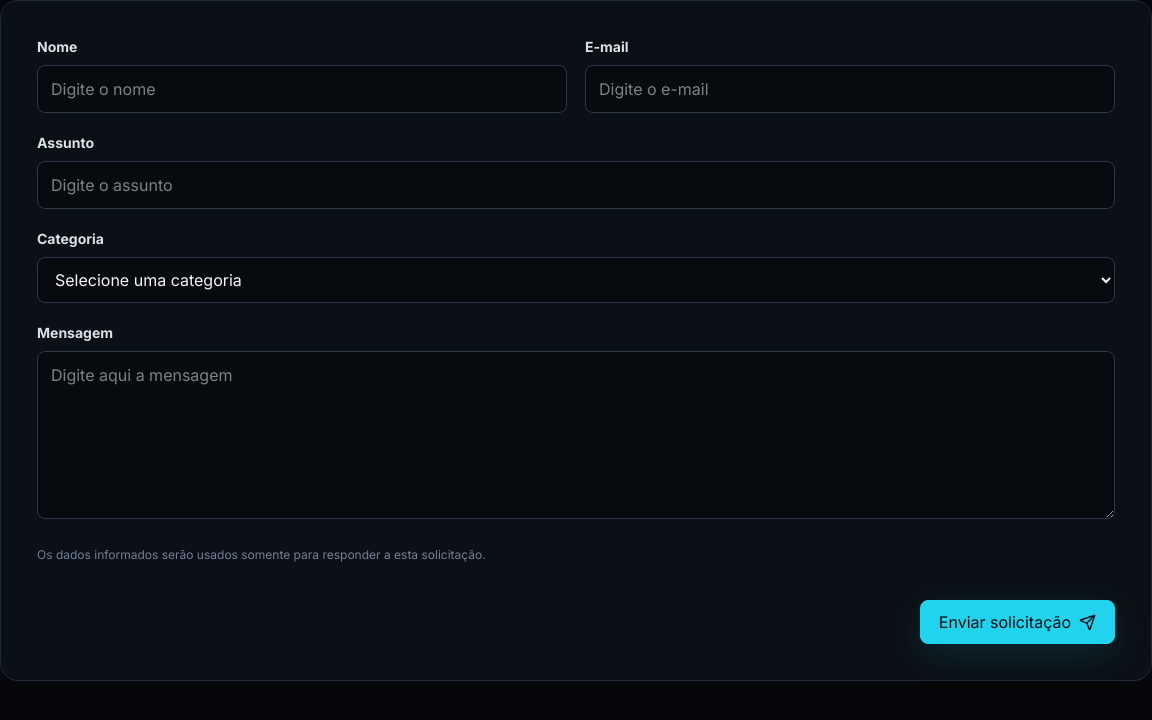
SupportForm › anuncia o feedback de sucesso
The image size is (1152, 720).
Type "Marcos Silva" into the field labelled "Nome" at (302, 89), box [37,65,567,113]
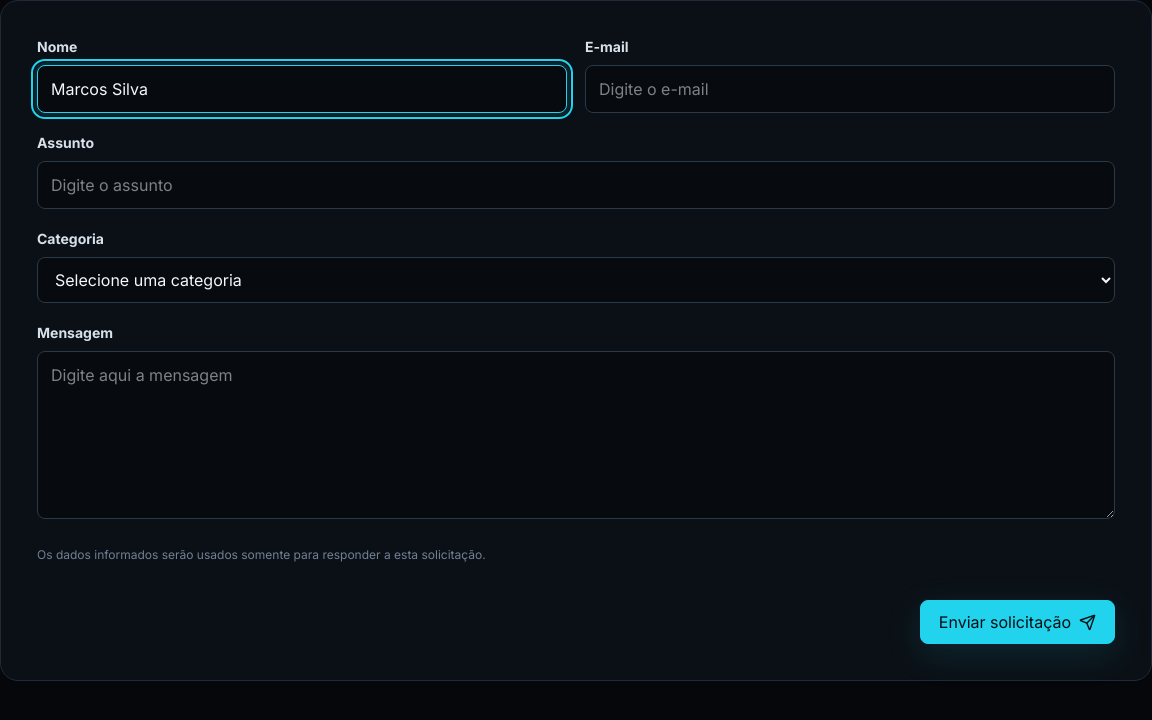
Type "marcos@example.com" into the field labelled "E-mail" at (850, 89), box [585,65,1115,113]
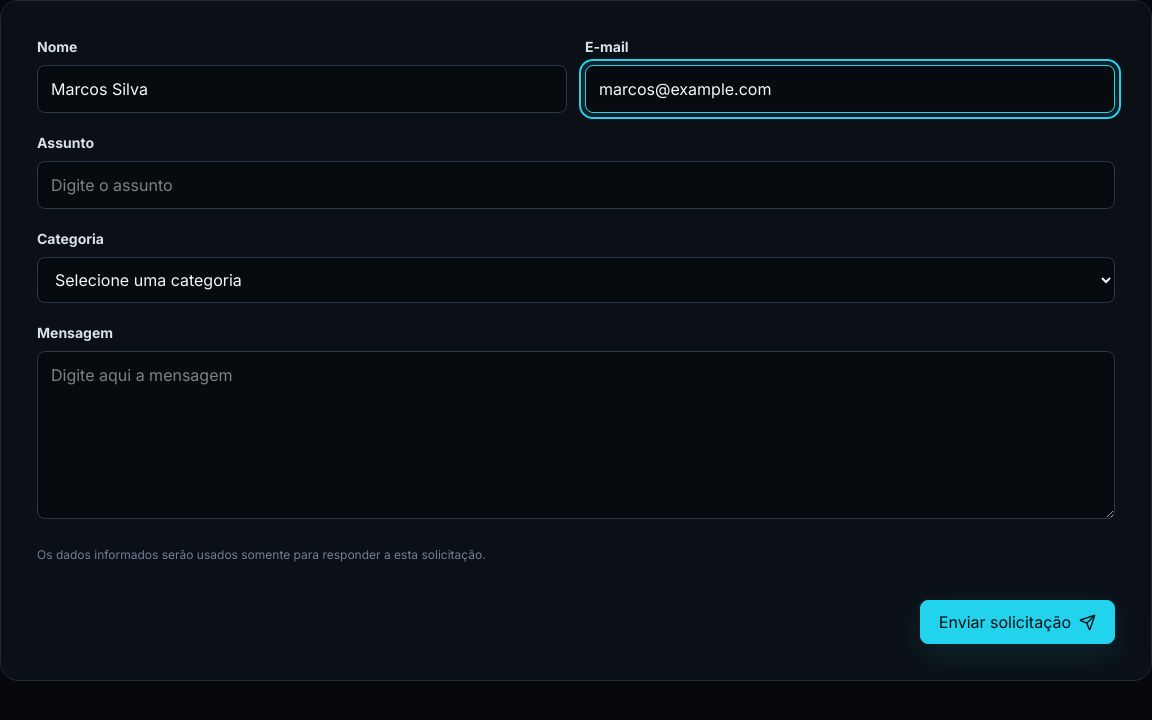
Type "Dúvida sobre a extensão" into the field labelled "Assunto" at (576, 185), box [37,161,1115,209]
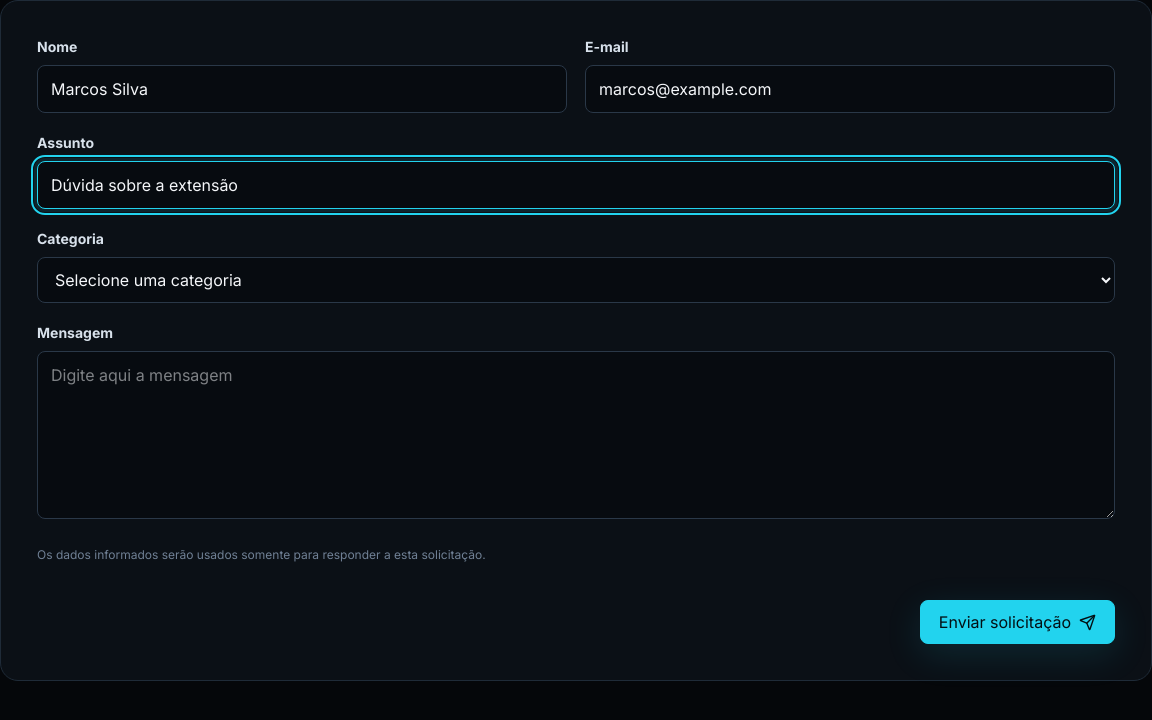
Select "Dúvida" in the dropdown labelled "Categoria" at (576, 280), box [37,257,1115,303]
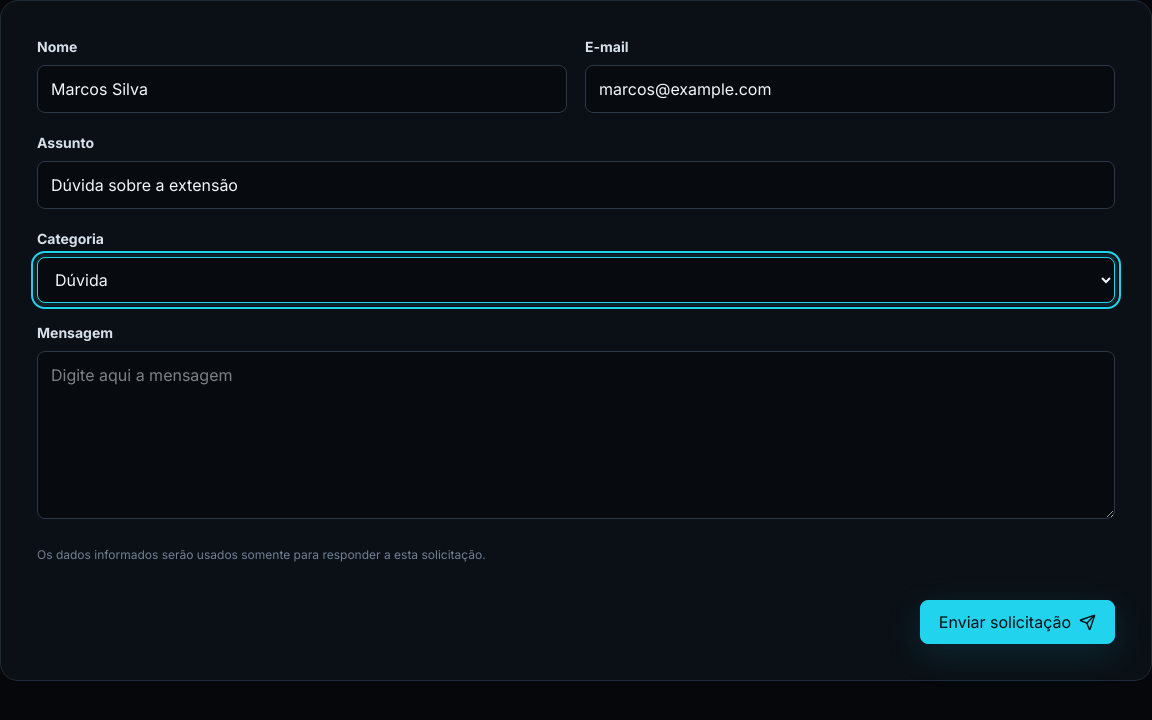
Type "Preciso de ajuda para configurar a extensão no Chrome." into the text box labelled "Mensagem" at (576, 435), box [37,351,1115,519]
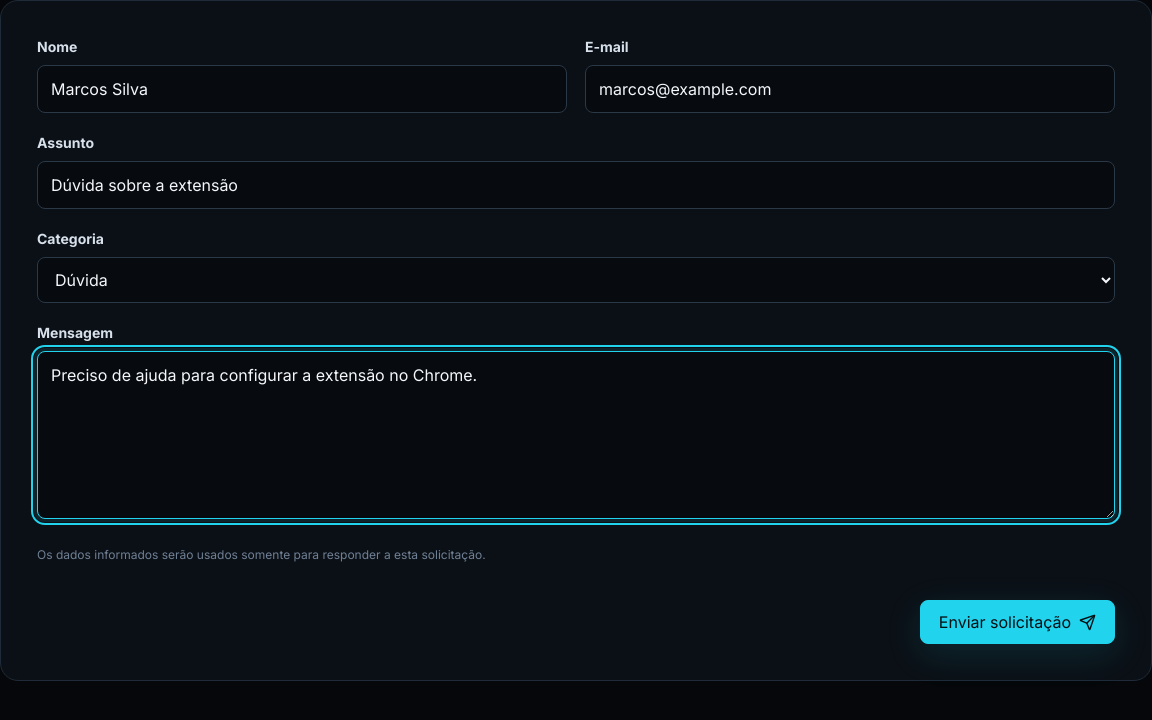
Click the button "Enviar solicitação" at (1017, 622), box [920,600,1115,644]
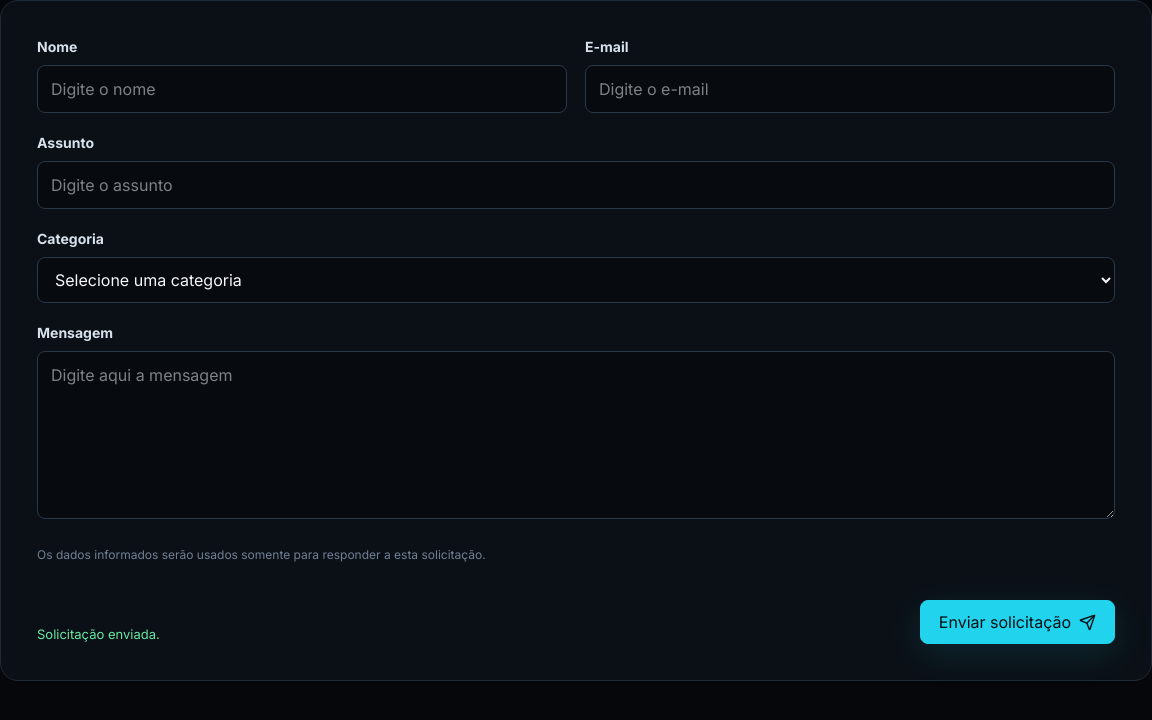
Now the message reads "Solicitação enviada.", box [37,626,160,642]
